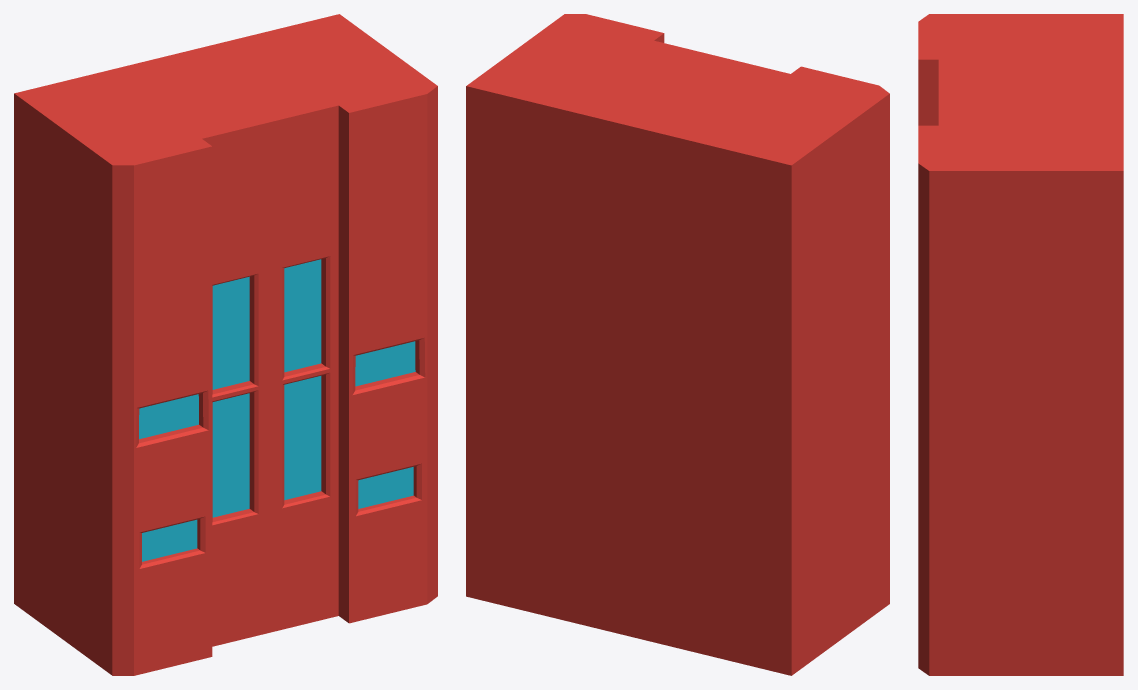
File: RedBuild.fbx
3 views of the same model, side by side, from view 1: azimuth 30°, elevation 25°; view 2: azimuth 150°, elevation 25°; view 3: azimuth 270°, elevation 25° (orthographic).
Visible parts, largest first — view 1: Cube.002; view 2: Cube.002; view 3: Cube.002.
Part boxes in pixels (box(x1,y1,x2,y2)): Cube.002: box(14, 14, 437, 675); Cube.002: box(466, 14, 889, 675); Cube.002: box(918, 14, 1123, 675).
Bounding box in the file's own units: 402 × 602 × 222.
